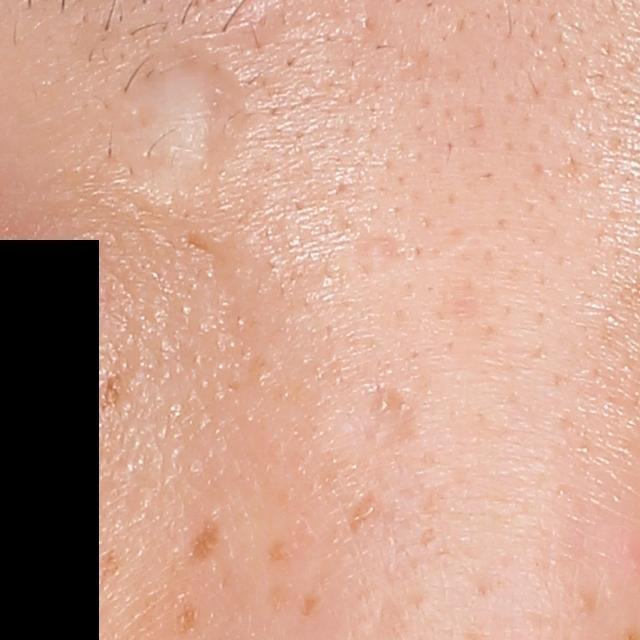melasma: (186, 508, 229, 565), (345, 486, 387, 538), (262, 531, 296, 567), (176, 596, 202, 635), (295, 590, 324, 618), (100, 544, 121, 582)
